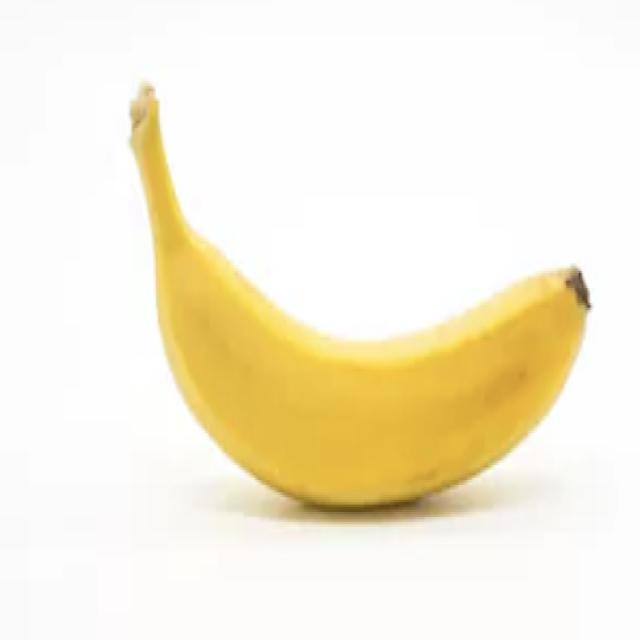Banana: (127, 79, 592, 509)
